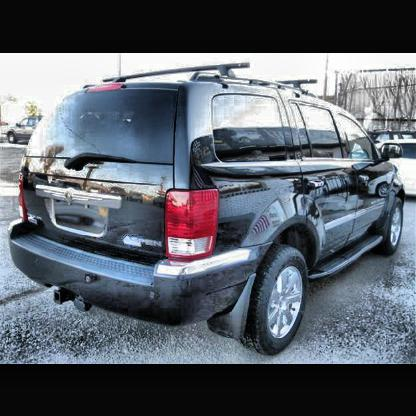Chrysler Aspen SUV 2009: (10, 63, 406, 359)
